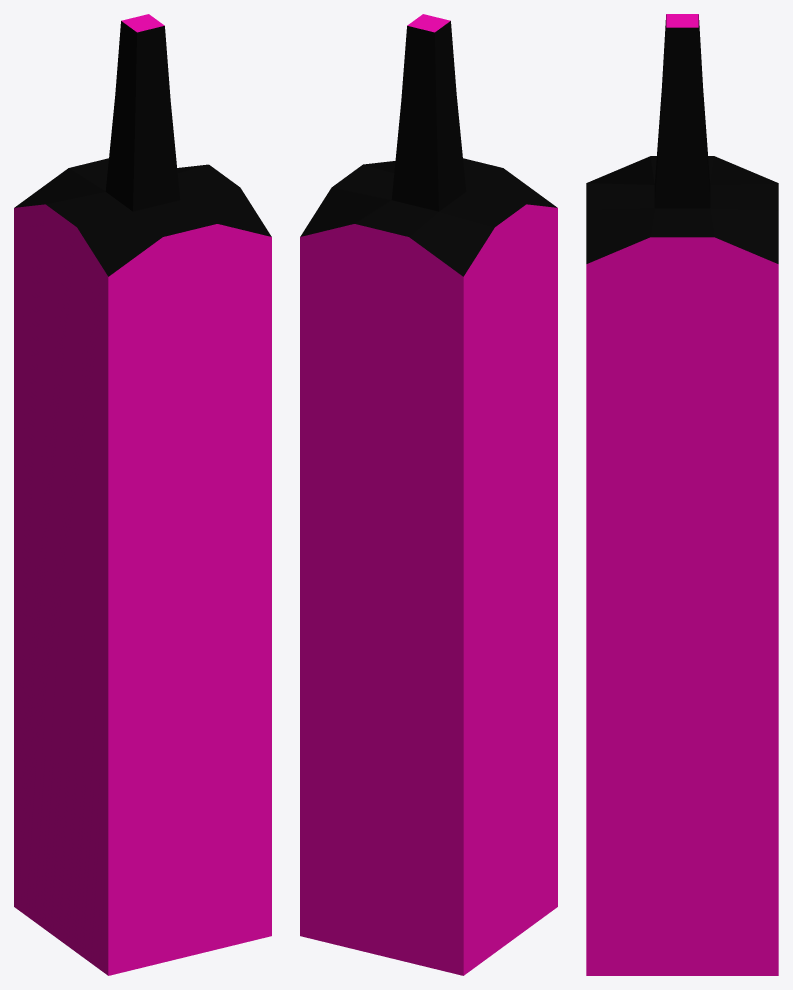
Rendered from bottle4.fbx.
3 renders of one model, left to right at view 1: azimuth 30°, elevation 25°; view 2: azimuth 150°, elevation 25°; view 3: azimuth 270°, elevation 25°, orthographic.
Parts seen in each view (by area): view 1: bottle2.002; view 2: bottle2.002; view 3: bottle2.002.
Boxes of the visible parts, x1=… form: bottle2.002: x1=14, y1=14, x2=271, y2=975; bottle2.002: x1=300, y1=14, x2=557, y2=975; bottle2.002: x1=586, y1=14, x2=778, y2=975.
Bounding box in the file's own units: 0.0178 × 0.0935 × 0.0178.
